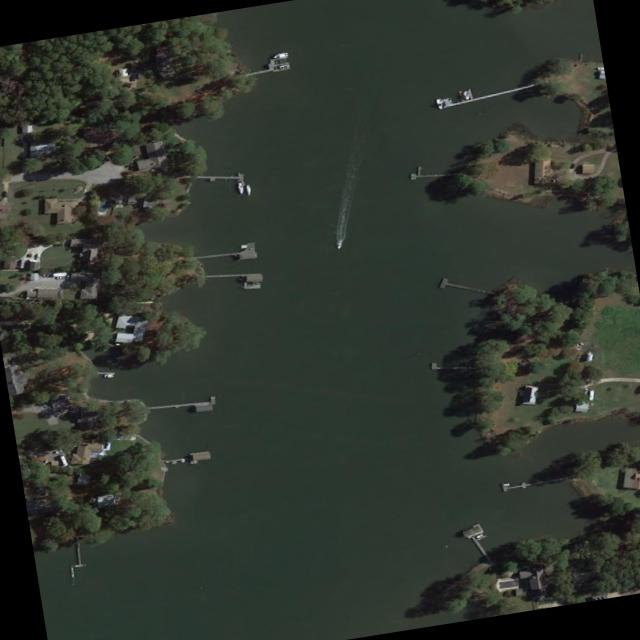large-vehicle: (586, 389, 595, 401)
ship: (432, 97, 444, 111), (272, 52, 291, 60), (333, 240, 344, 251), (461, 90, 471, 102), (236, 182, 244, 196), (244, 182, 251, 196), (277, 63, 289, 70), (102, 374, 114, 378)
